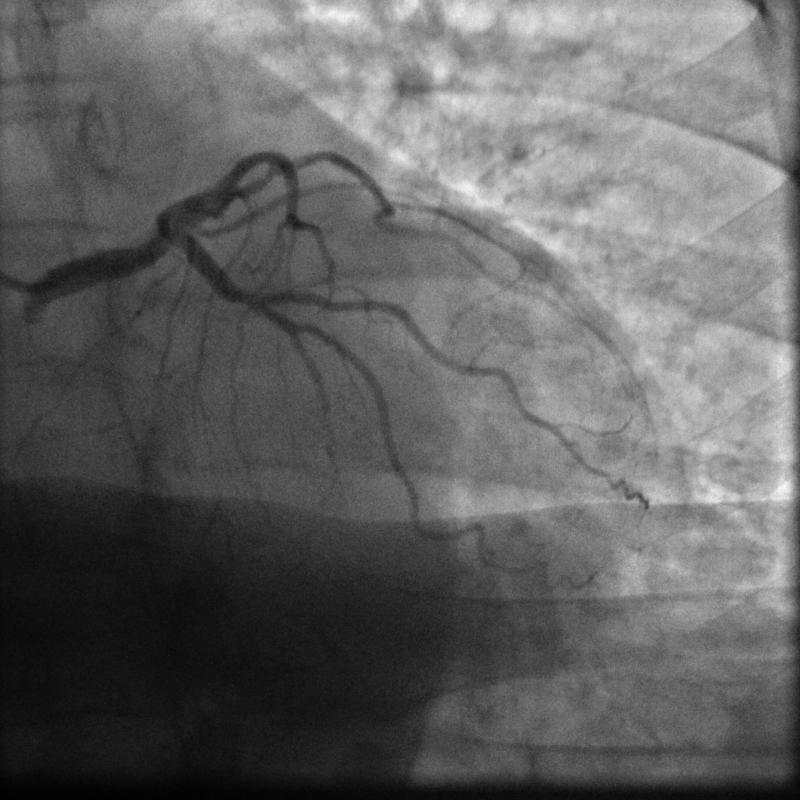Stenosis: (236, 281, 264, 313)
